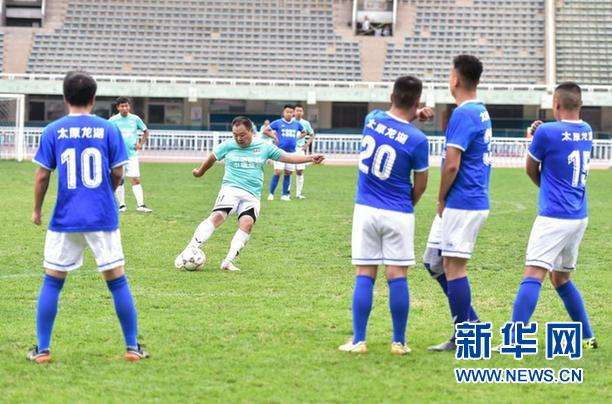football: (181, 248, 205, 269)
